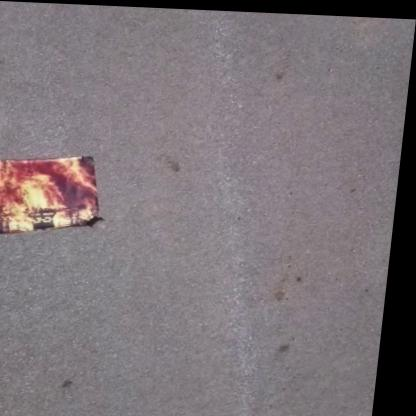fire-poster: (0, 149, 116, 241)
